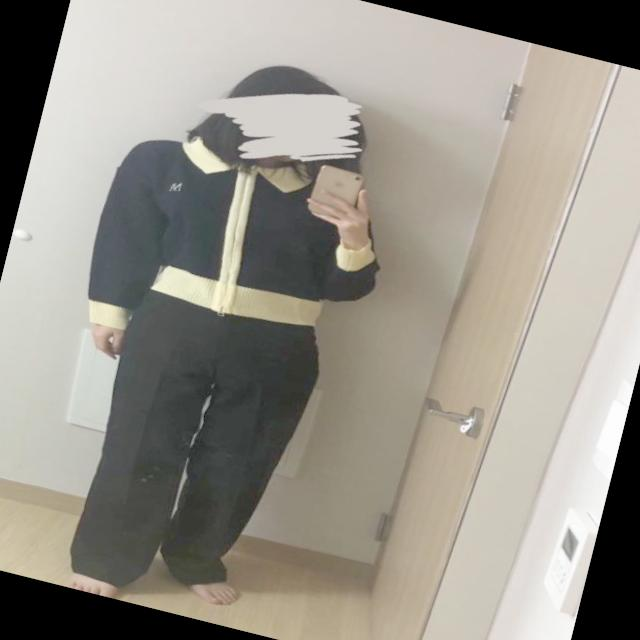cardigan: (71, 120, 398, 388)
denimpants: (57, 278, 326, 623)
